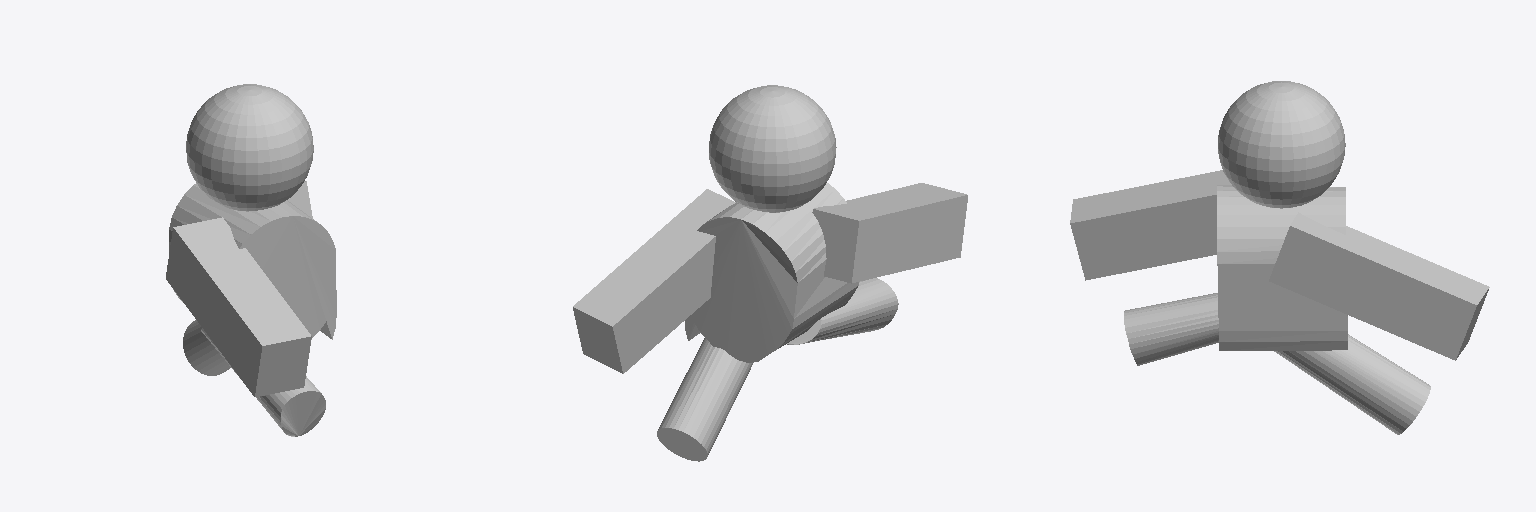
The model's file is Figurine122.obj.
3 views of the same model, side by side, from view 1: azimuth 30°, elevation 25°; view 2: azimuth 150°, elevation 25°; view 3: azimuth 270°, elevation 25° (orthographic).
Parts seen in each view (by area): view 1: Cylinder; view 2: Cylinder; view 3: Cylinder.
Boxes of the visible parts, x1=… form: Cylinder: x1=166, y1=84, x2=336, y2=436; Cylinder: x1=573, y1=85, x2=967, y2=461; Cylinder: x1=1070, y1=81, x2=1489, y2=434.
Size of the model in its own units: 3.49 by 5.74 by 6.55.